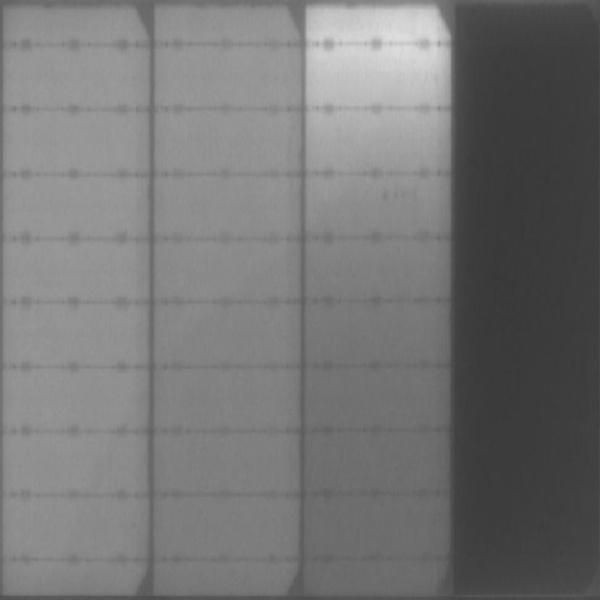no_electricity: (456, 5, 600, 600)
